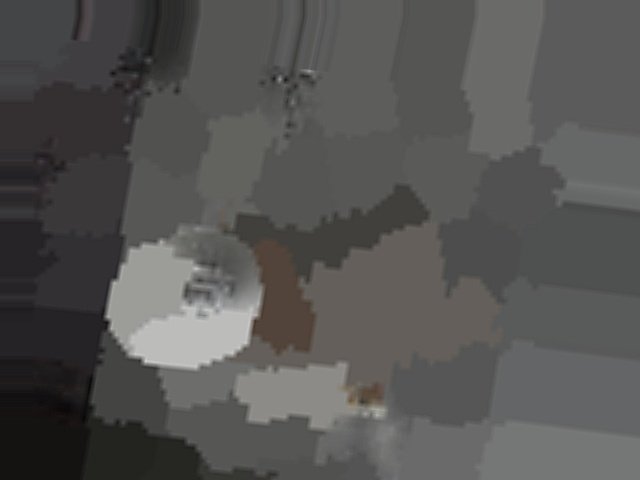eight: (179, 259, 235, 320)
